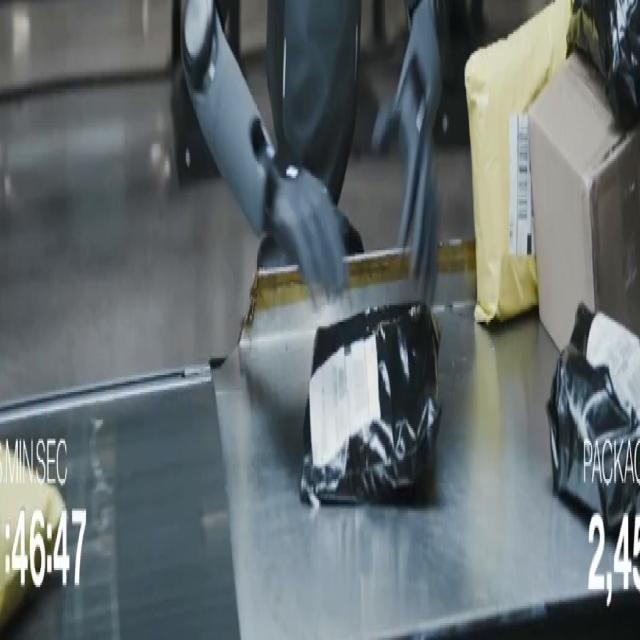package: (466, 0, 570, 324), (530, 53, 639, 349), (300, 304, 441, 506), (547, 304, 639, 531), (0, 446, 64, 635), (568, 0, 639, 129)
